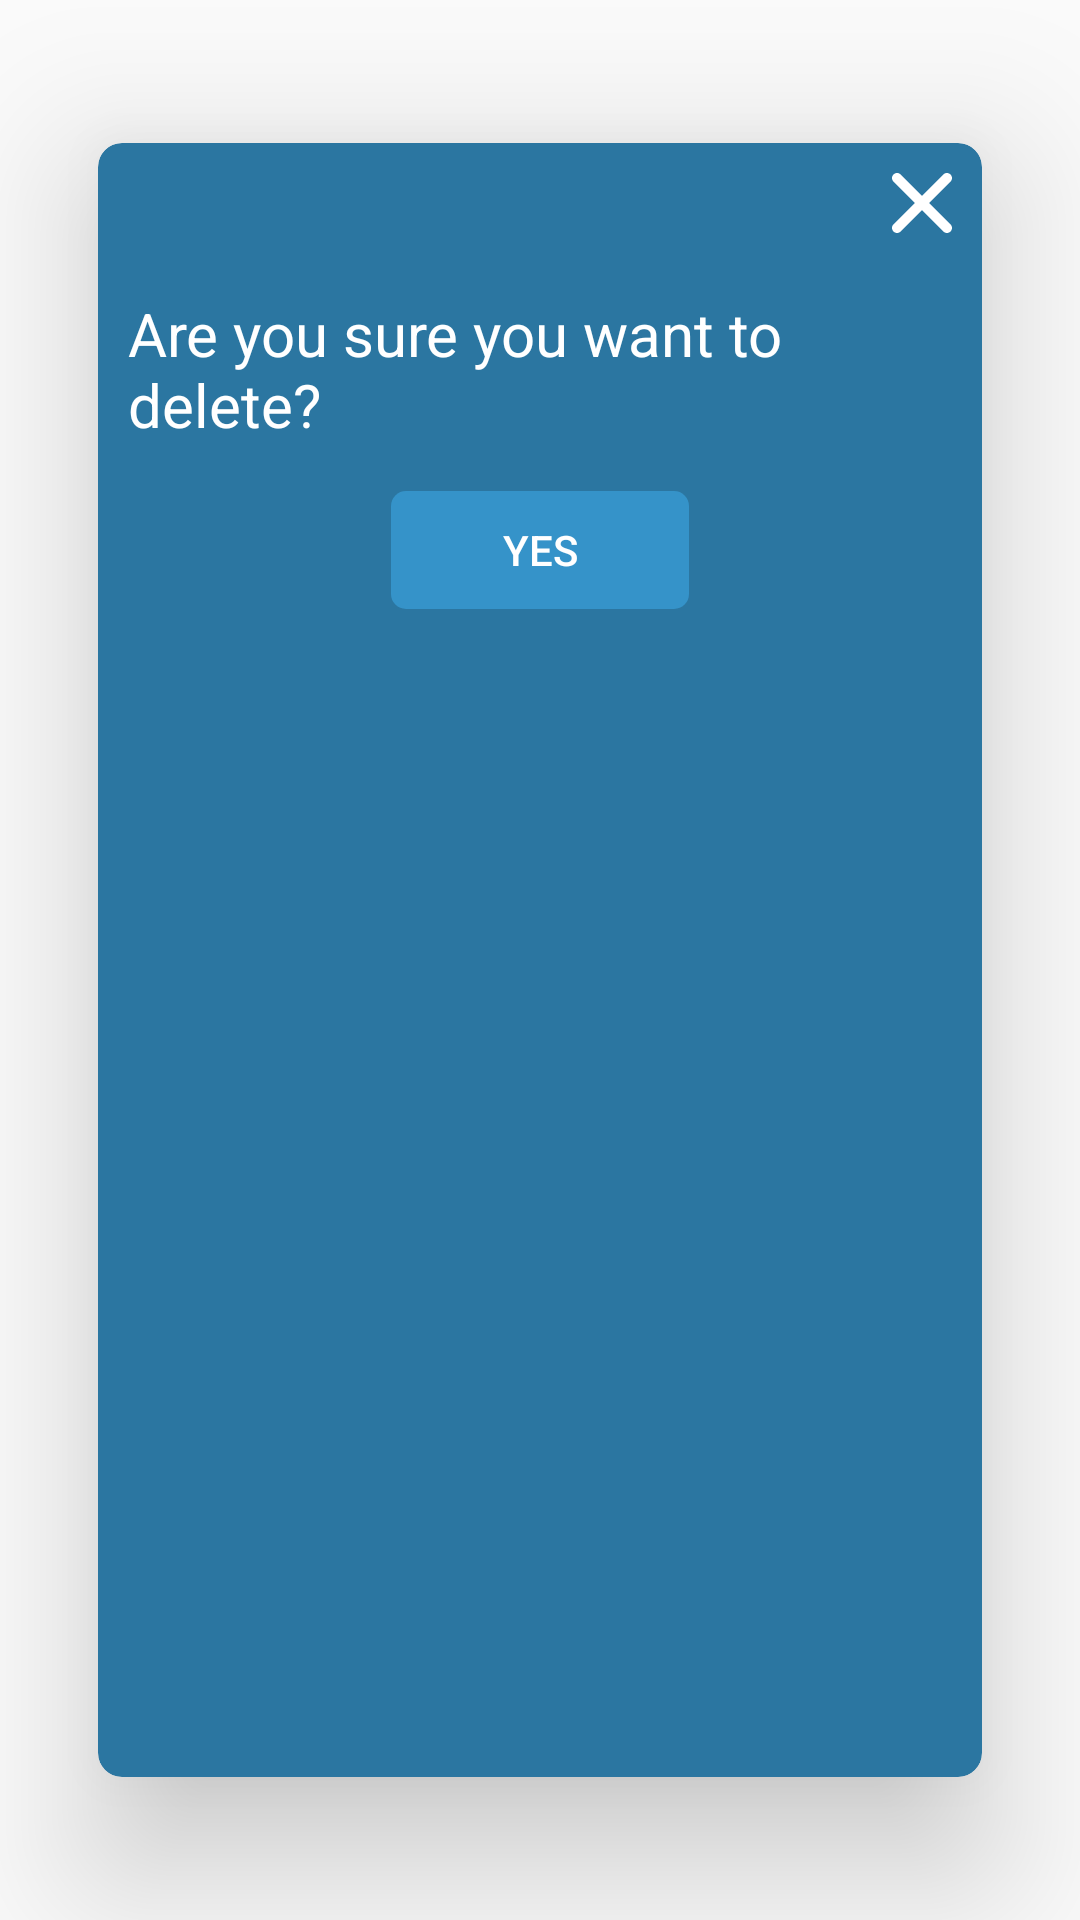

Named icons in this screenshot (1080w x 1920h) and their centers, (x=x, y=y):
cancel: (x=922, y=203)
